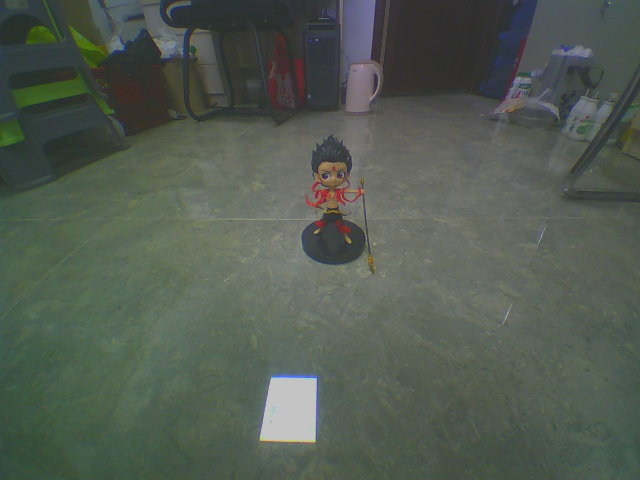Nezha: (298, 135, 398, 291)
